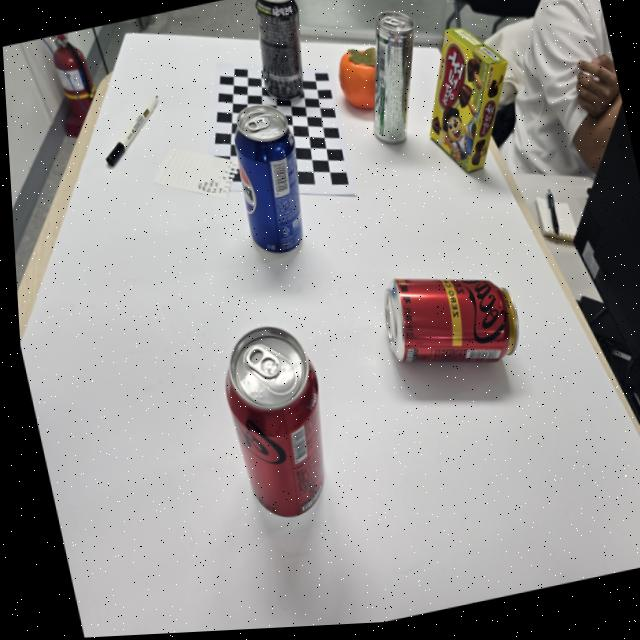can_coke_decaf: (382, 279, 521, 362)
can_coke_zero: (223, 327, 328, 519)
can_pepsi: (234, 103, 306, 250)
